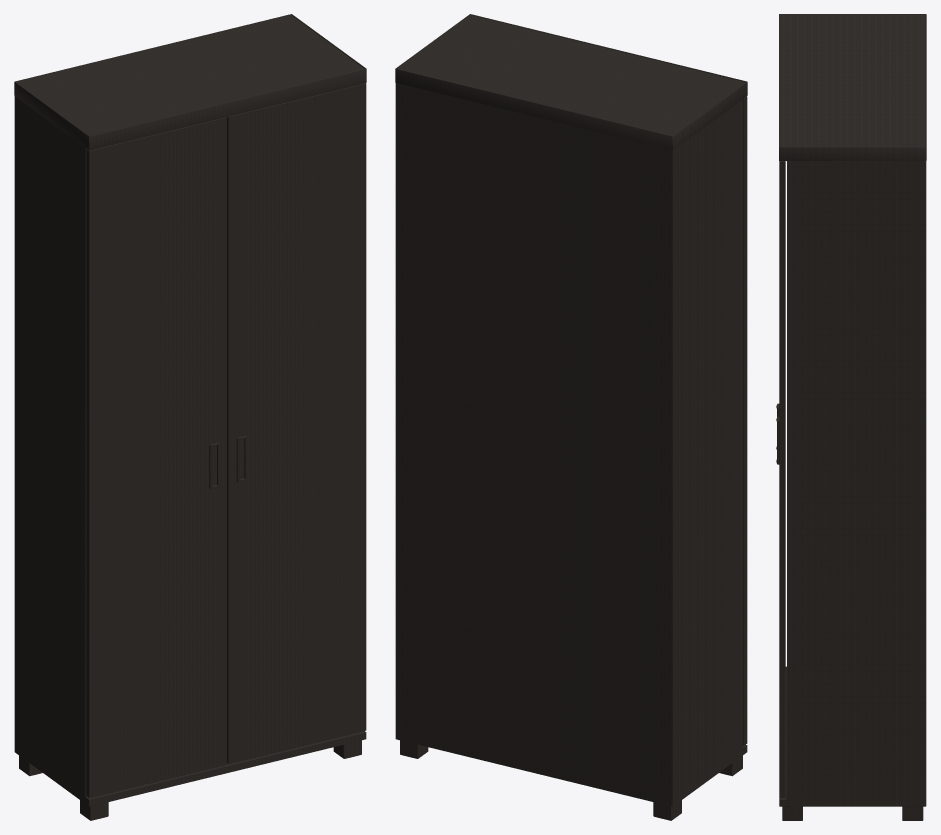
File: closet2.glb
3 renders of one model, left to right at view 1: azimuth 30°, elevation 25°; view 2: azimuth 150°, elevation 25°; view 3: azimuth 270°, elevation 25°, orthographic.
Visible parts, largest first — view 1: closet; view 2: closet; view 3: closet.
Boxes of the visible parts, <box> form: closet: <box>14,14,366,820</box>; closet: <box>395,14,747,820</box>; closet: <box>776,14,926,820</box>.
Bounding box in the file's own units: 0.7945 × 1.88 × 0.3779.
Materials: 1 (1 with a texture image).
